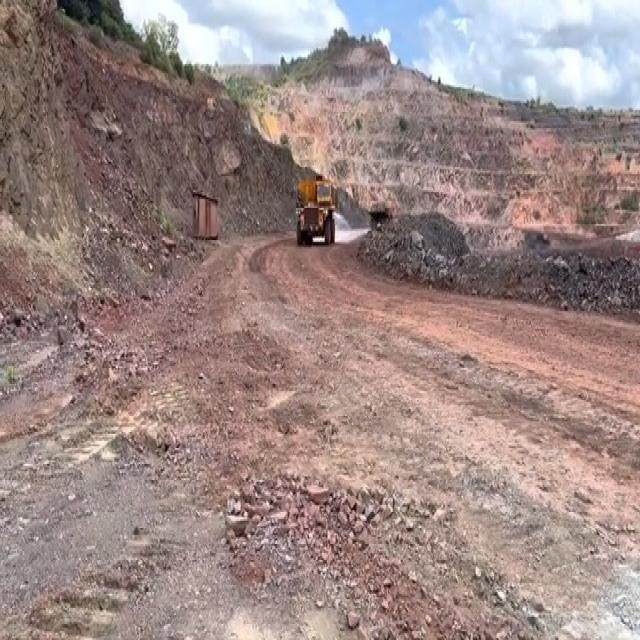dump_truck: (295, 177, 339, 246)
